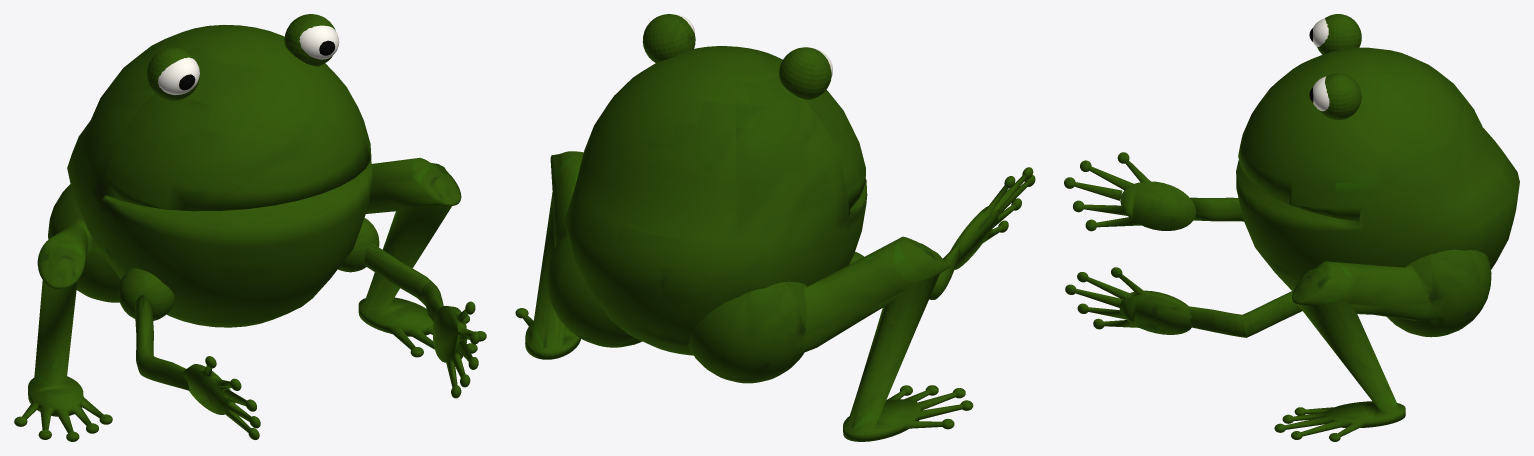
Rendered from frog.glb.
The picture shows the model from 3 angles, left to right: view 1: azimuth 30°, elevation 25°; view 2: azimuth 150°, elevation 25°; view 3: azimuth 270°, elevation 25°; orthographic projection. The views are drawn at different scales.
Visible parts, largest first — view 1: Sphere.029; view 2: Sphere.029; view 3: Sphere.029.
Part boxes in pixels (x1,y1,x2,y2): Sphere.029: (14, 14, 486, 441); Sphere.029: (515, 14, 1035, 441); Sphere.029: (1064, 14, 1519, 441).
Bounding box in the file's own units: 0.0808 × 0.0595 × 0.081.
4 materials, 4 textured.
